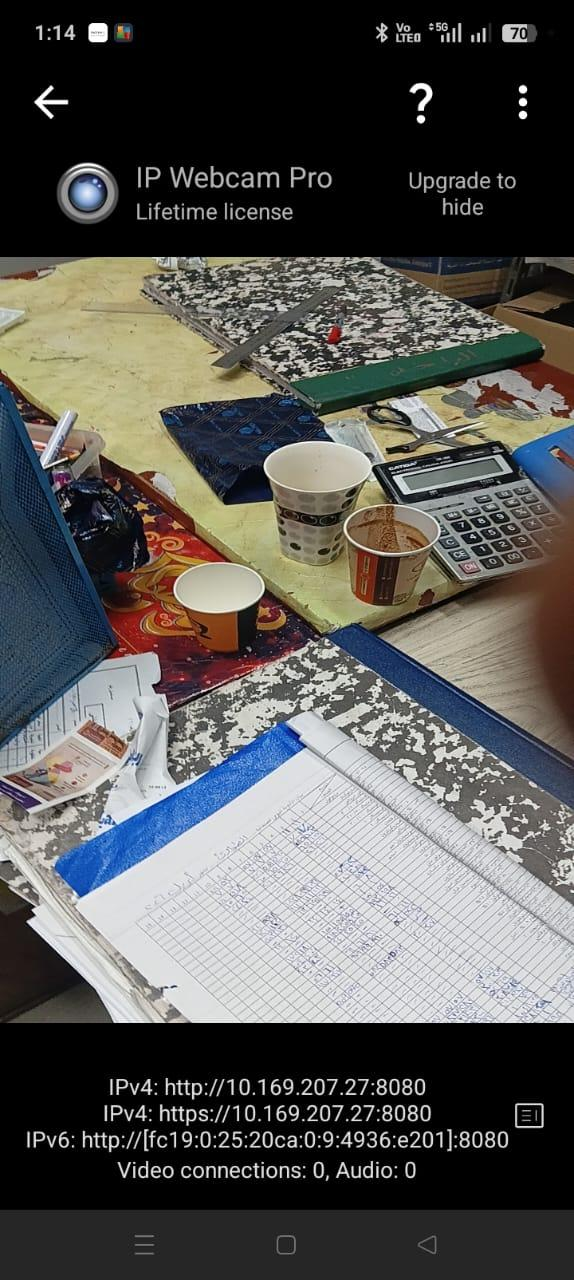cup: (264, 441, 371, 564), (344, 503, 439, 605), (173, 562, 264, 652)
